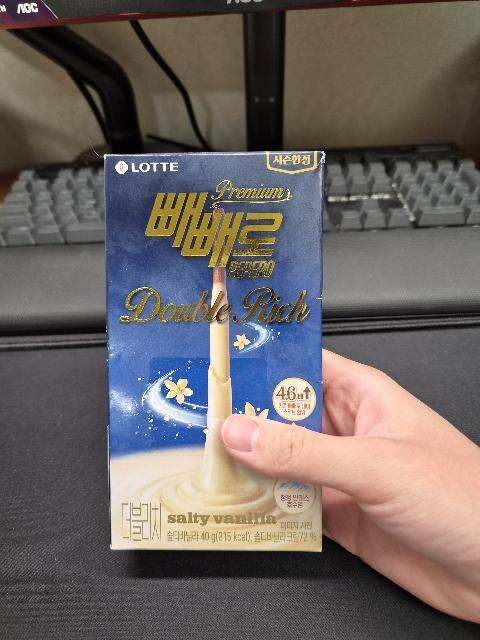pepero: (104, 151, 326, 552)
